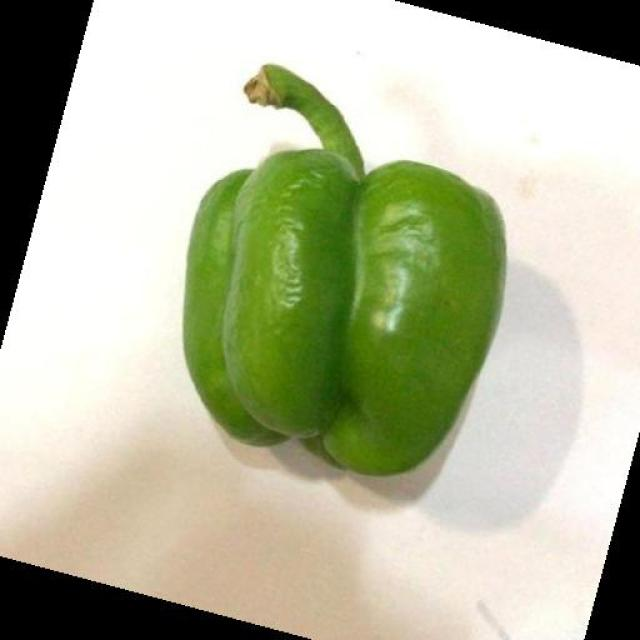Fresh_Capsicum: (202, 49, 522, 465)
